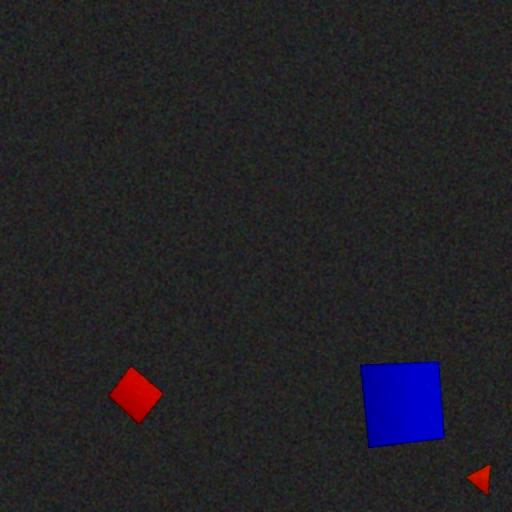BLUE_SQUARE: (359, 361, 446, 448)
RED_SQUARE: (108, 366, 164, 424)
